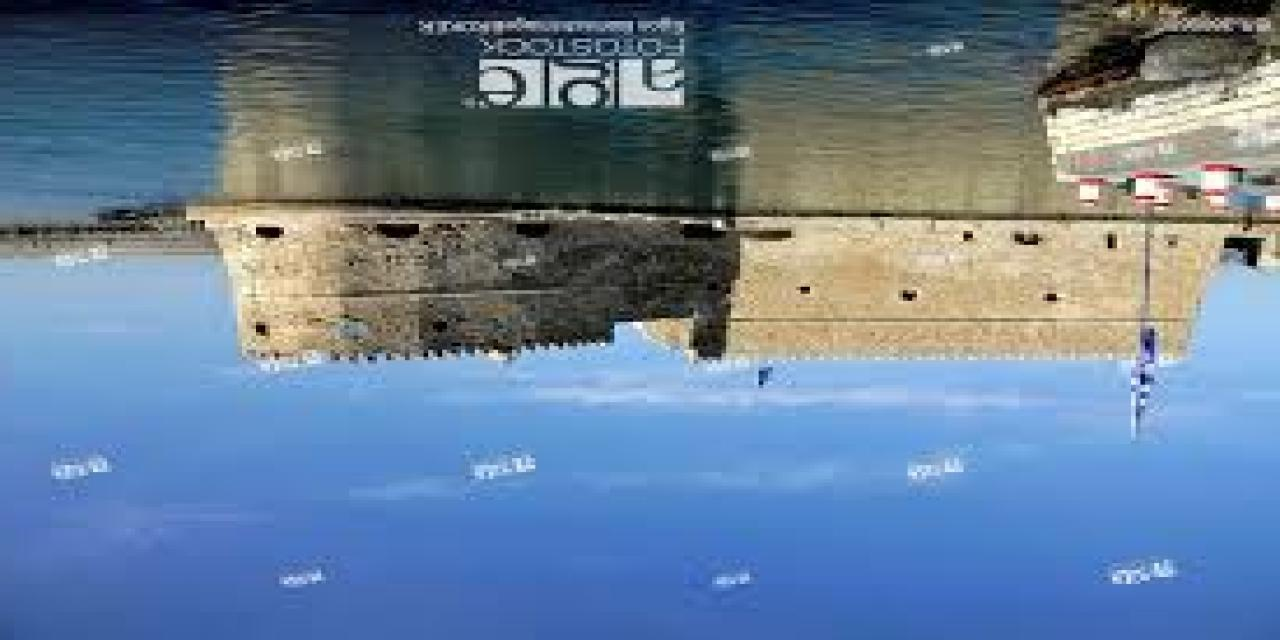Kules: (185, 199, 1224, 374)
